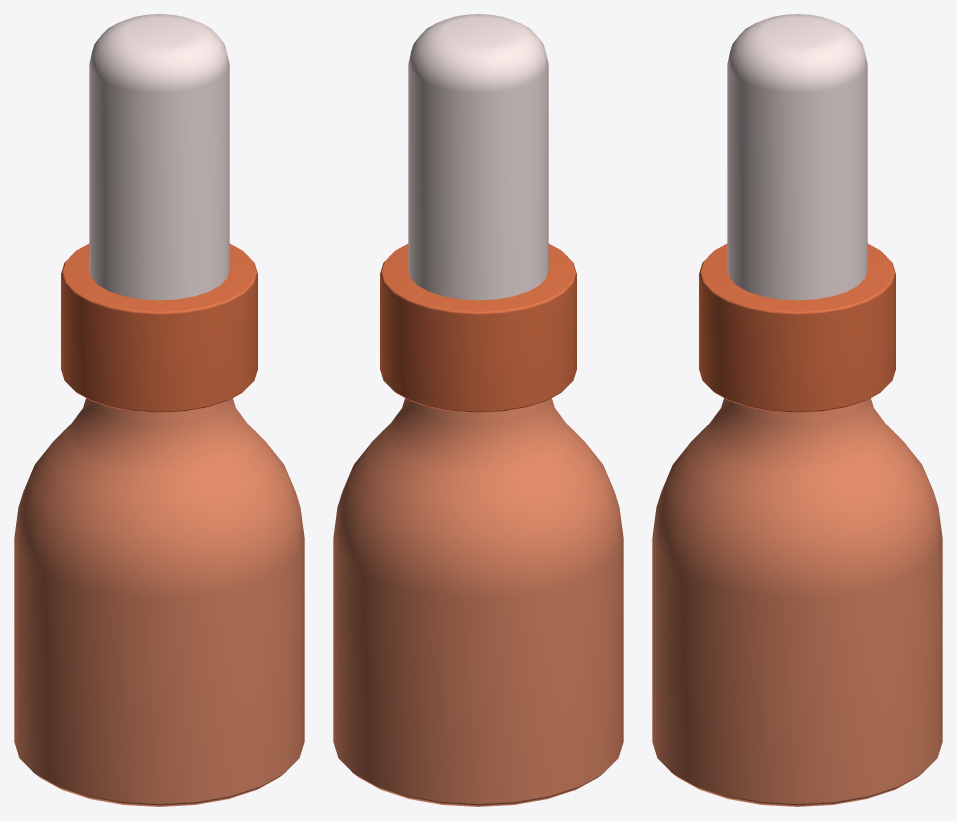
File: Isl_7_Serum_Bottle_1.fbx
The picture shows the model from 3 angles, left to right: view 1: azimuth 30°, elevation 25°; view 2: azimuth 150°, elevation 25°; view 3: azimuth 270°, elevation 25°; orthographic projection.
Parts seen in each view (by area): view 1: Isl_7_Serum_Bottle_1; view 2: Isl_7_Serum_Bottle_1; view 3: Isl_7_Serum_Bottle_1.
Boxes of the visible parts, left/top/right/bottom form: Isl_7_Serum_Bottle_1: left=14, top=14, right=304, bottom=806; Isl_7_Serum_Bottle_1: left=333, top=14, right=623, bottom=806; Isl_7_Serum_Bottle_1: left=652, top=14, right=942, bottom=806.
Size of the model in its own units: 30.75 by 83.82 by 30.75.
